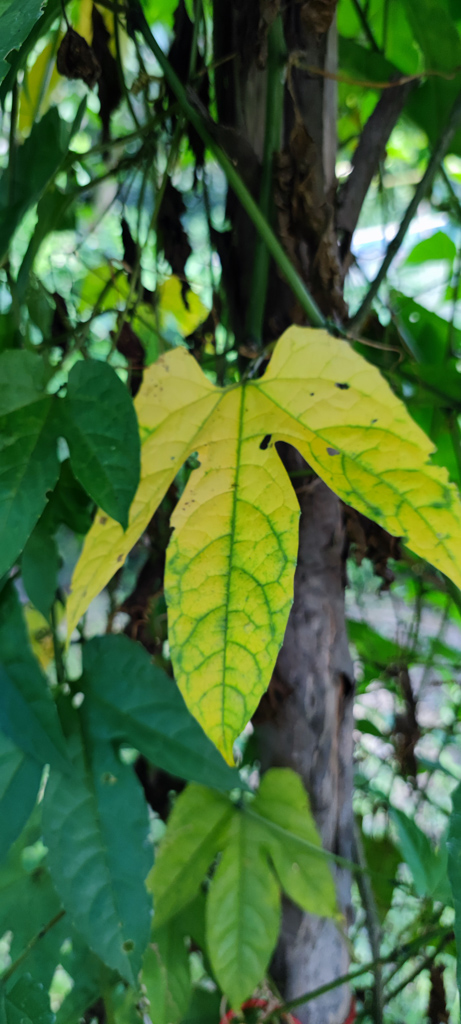Pepper yellow leaf: (56, 326, 461, 755)
